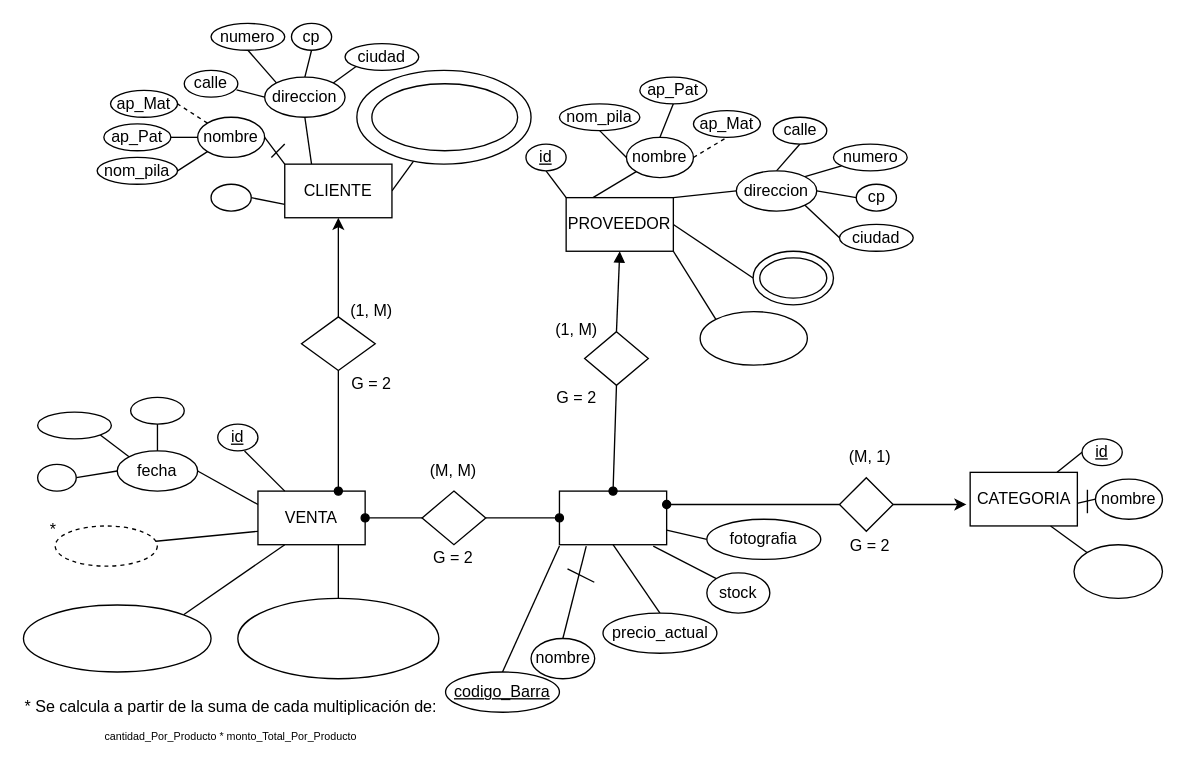
Image size: 1186x784. Some labels were removed from this diagram. Here are the shapes that lost their labels. From the top down, the centre of each, then its label:
the point at 444,116: telefono_Contacto
the point at 230,197: rfc
the point at 792,277: telefono
the point at 337,343: registra
the point at 615,357: administra
the point at 753,337: pagina_Web
the point at 73,425: mes
the point at 156,410: dia
the point at 56,477: año
the point at 453,517: genera
the point at 612,517: PRODUCTO
the point at 865,503: tiene
the point at 105,545: monto_Final
the point at 1117,570: descripción
the point at 116,638: cantidad_Por_Producto
the point at 338,638: monto_Total_Por_Producto
